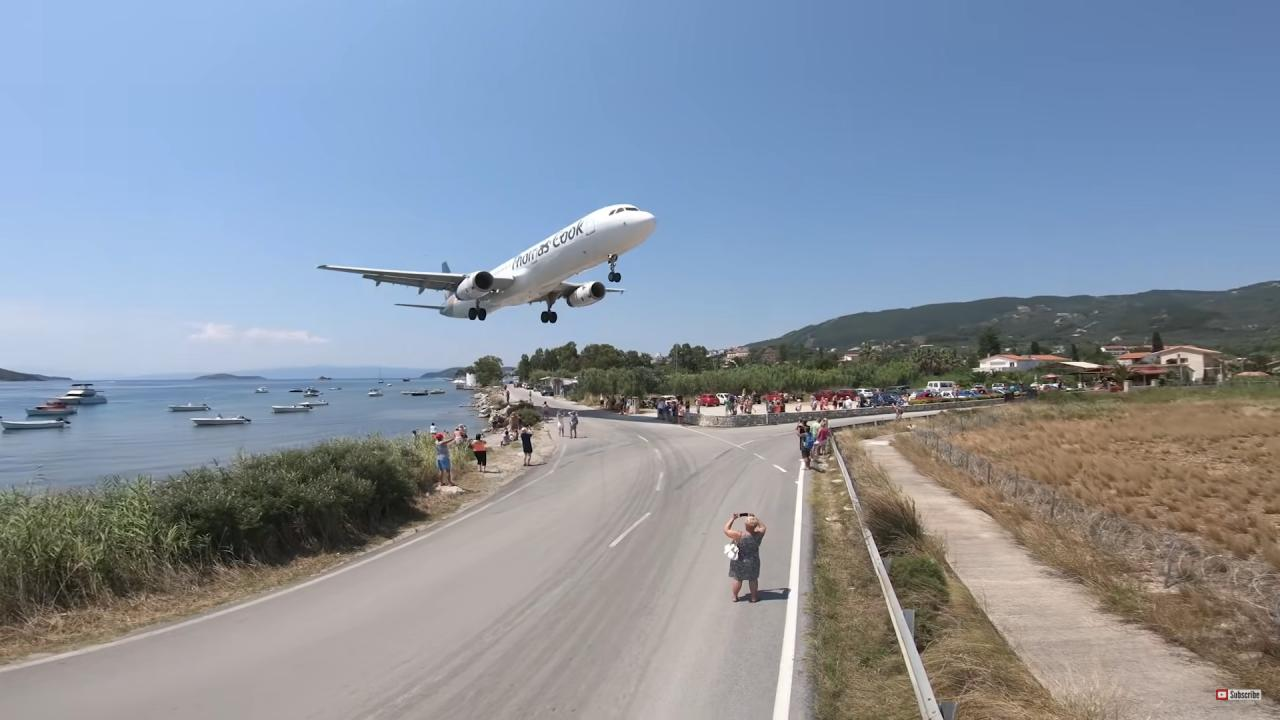Airplane: (306, 190, 666, 336)
